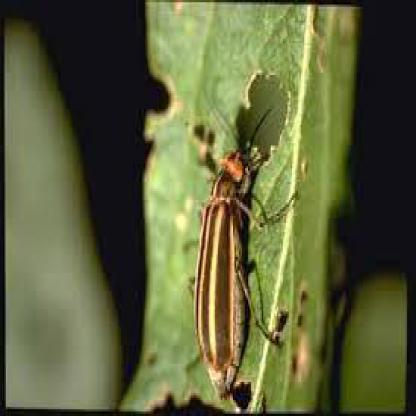blister beetle: (194, 104, 297, 396)
